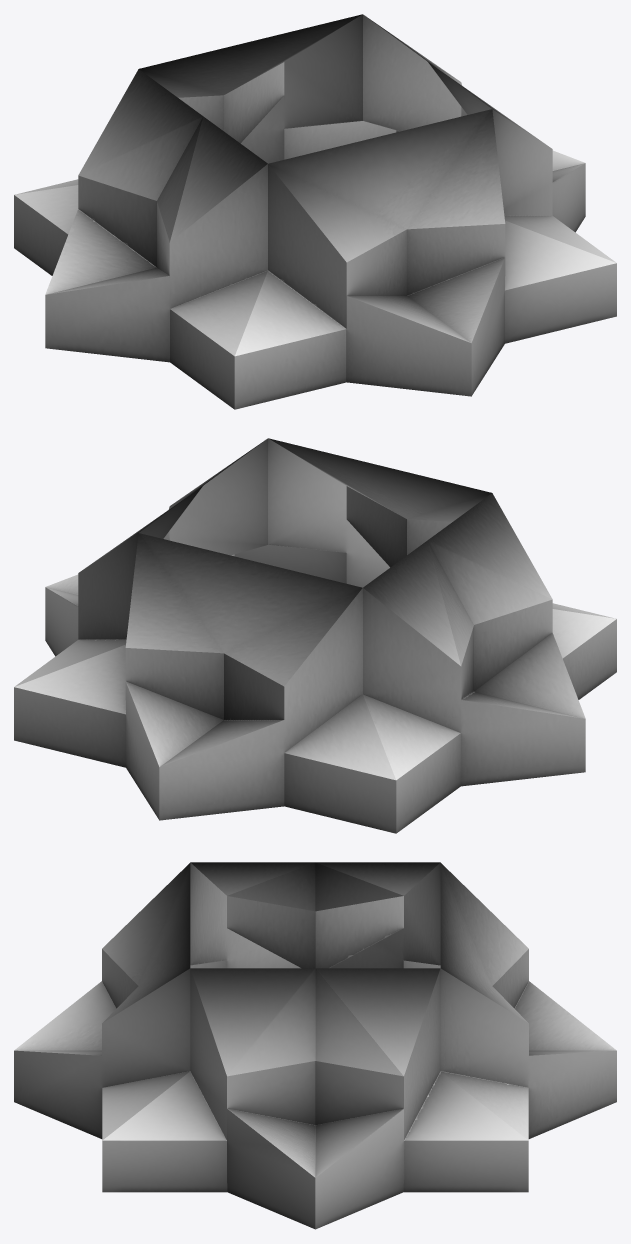
Rendered from TableBase.fbx.
3 renders of one model, top to bottom at view 1: azimuth 30°, elevation 25°; view 2: azimuth 150°, elevation 25°; view 3: azimuth 270°, elevation 25°, orthographic. The views are drawn at different scales.
Visible parts, largest first — view 1: pillar; view 2: pillar; view 3: pillar.
Part boxes in pixels (box(x1,y1,x2,y2)): pillar: box(14, 14, 616, 409); pillar: box(14, 438, 616, 833); pillar: box(14, 862, 616, 1229).
Bounding box in the file's own units: 212 × 72.5 × 212.
1 material, 1 textured.
